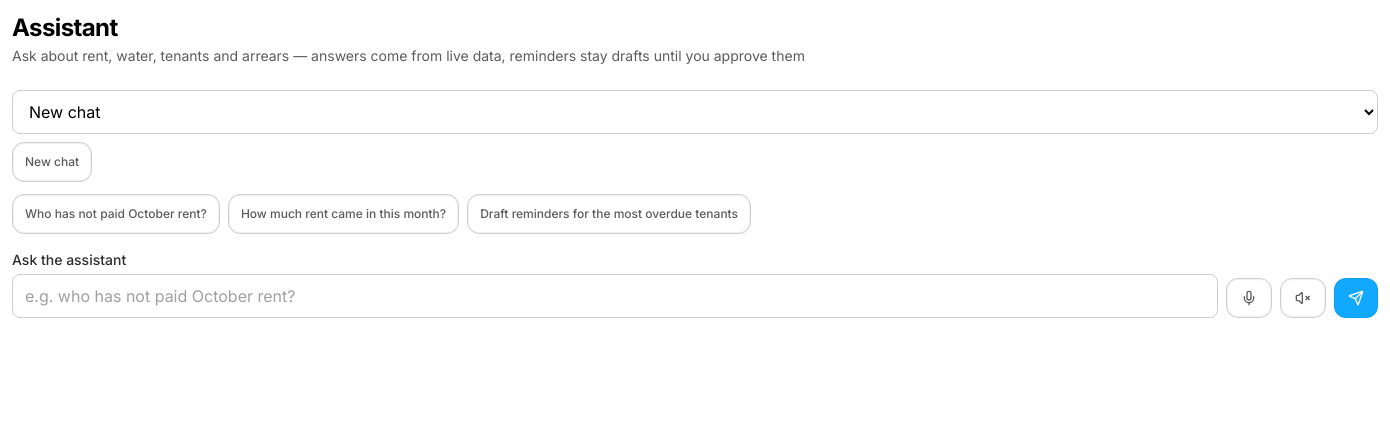
Assistant page › sends a typed question and renders the reply
Expected: the text "Ask about rent, water, tenants" is shown, [12,47,805,64]
Type "who owes?" into the field labelled "Ask the assistant".
click(615, 296); type("who owes?")  # box [12,274,1218,318]
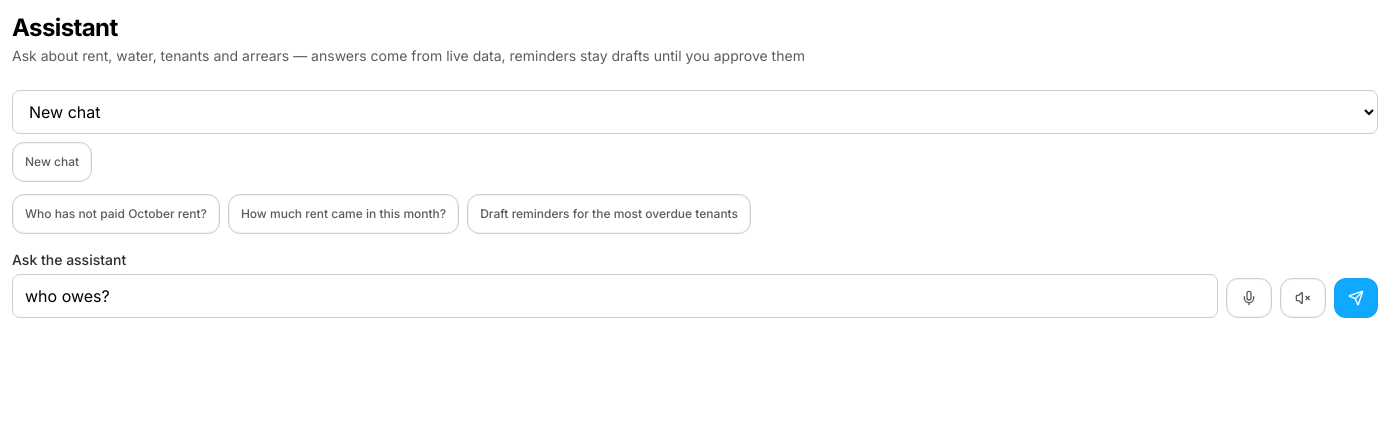
Click the button named "Send question".
click(1356, 298)  # box [1334,278,1378,318]
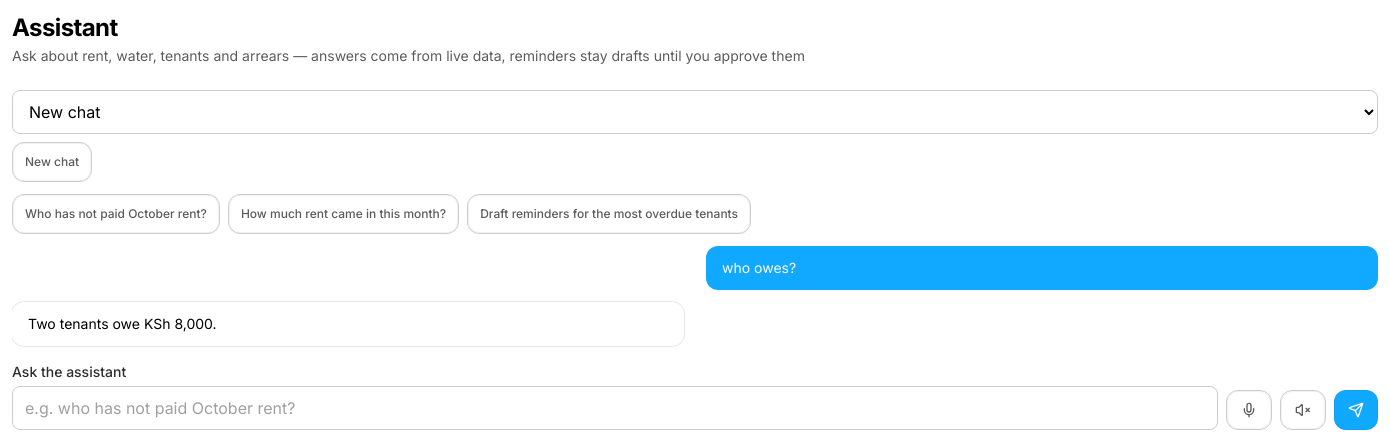
Now the text "Two tenants owe KSh 8,000." is shown, box [28,315,217,332]
